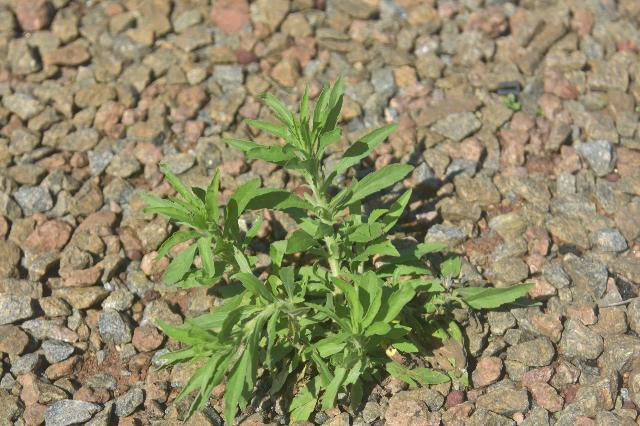MalezaMontesDelPlata: (225, 84, 453, 416), (134, 155, 334, 426)
